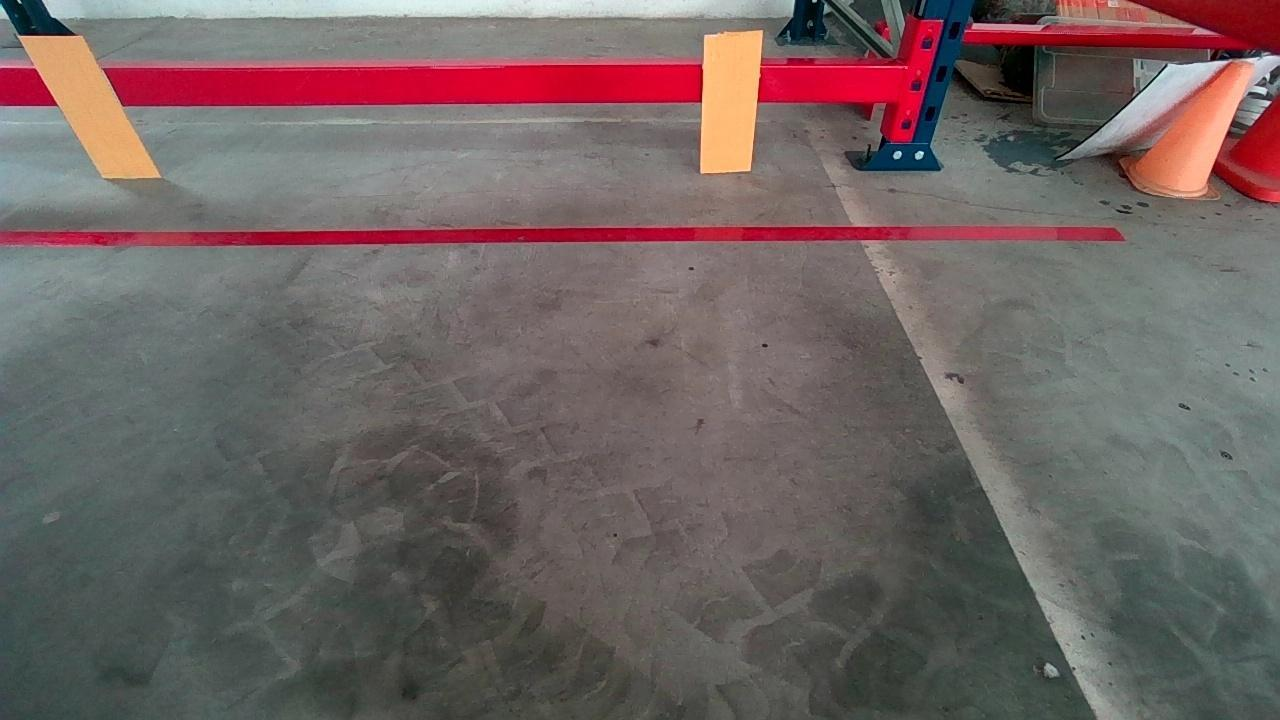h_rack: (6, 64, 902, 109)
orange_strip: (22, 35, 162, 177), (700, 33, 761, 172)
red_line: (0, 223, 1121, 249)
